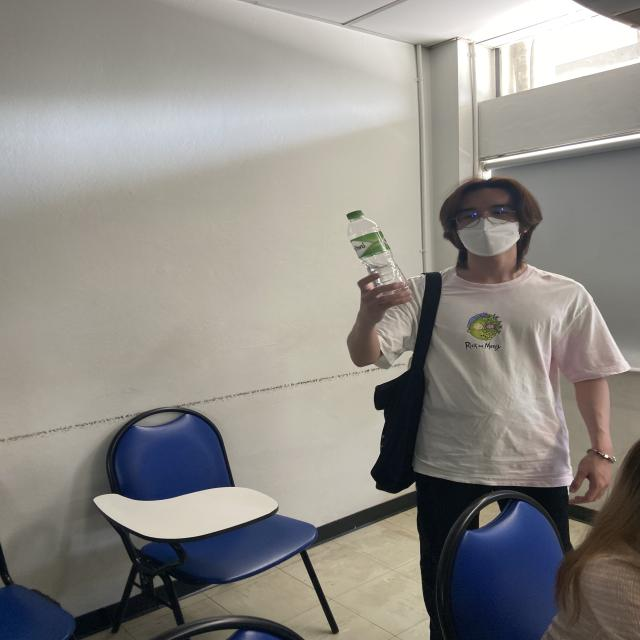bottle: (346, 209, 413, 297)
